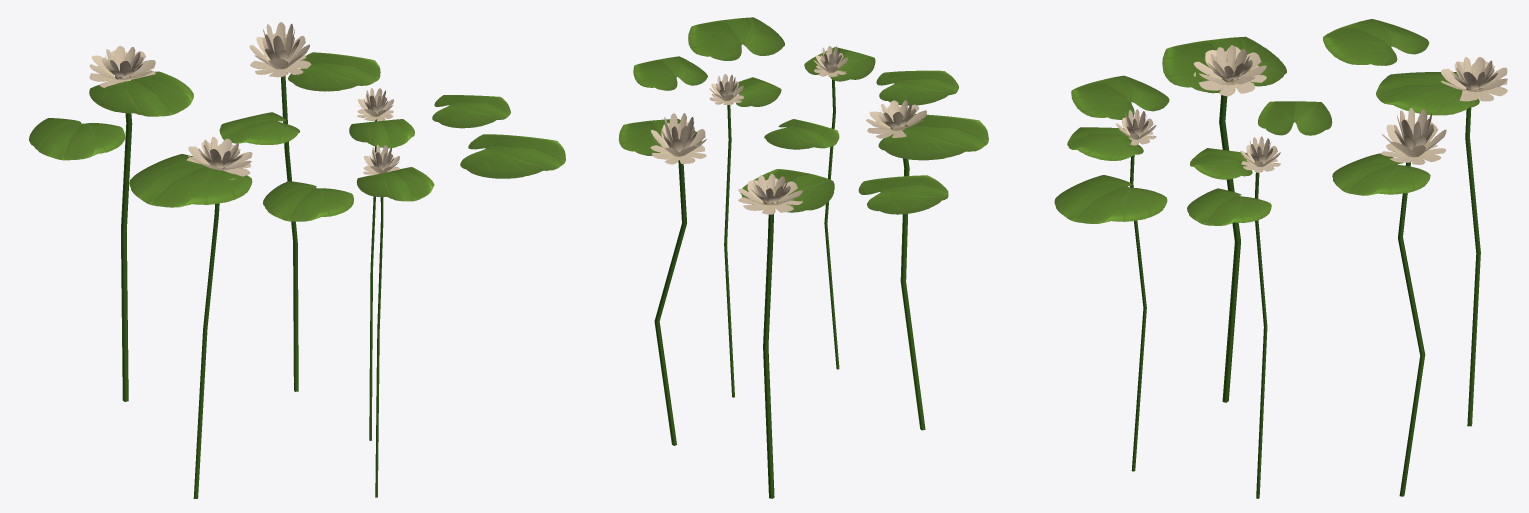
The model's file is Lily Multi.fbx.
The picture shows the model from 3 angles, left to right: view 1: azimuth 30°, elevation 25°; view 2: azimuth 150°, elevation 25°; view 3: azimuth 270°, elevation 25°; orthographic projection. The views are drawn at different scales.
Parts seen in each view (by area): view 1: Lily Multi; view 2: Lily Multi; view 3: Lily Multi.
Boxes of the visible parts, x1,y1,x2,y2 form: Lily Multi: (29, 22, 565, 498); Lily Multi: (618, 17, 988, 498); Lily Multi: (1054, 19, 1507, 498).
Size of the model in its own units: 1.19 by 0.9537 by 1.09.
